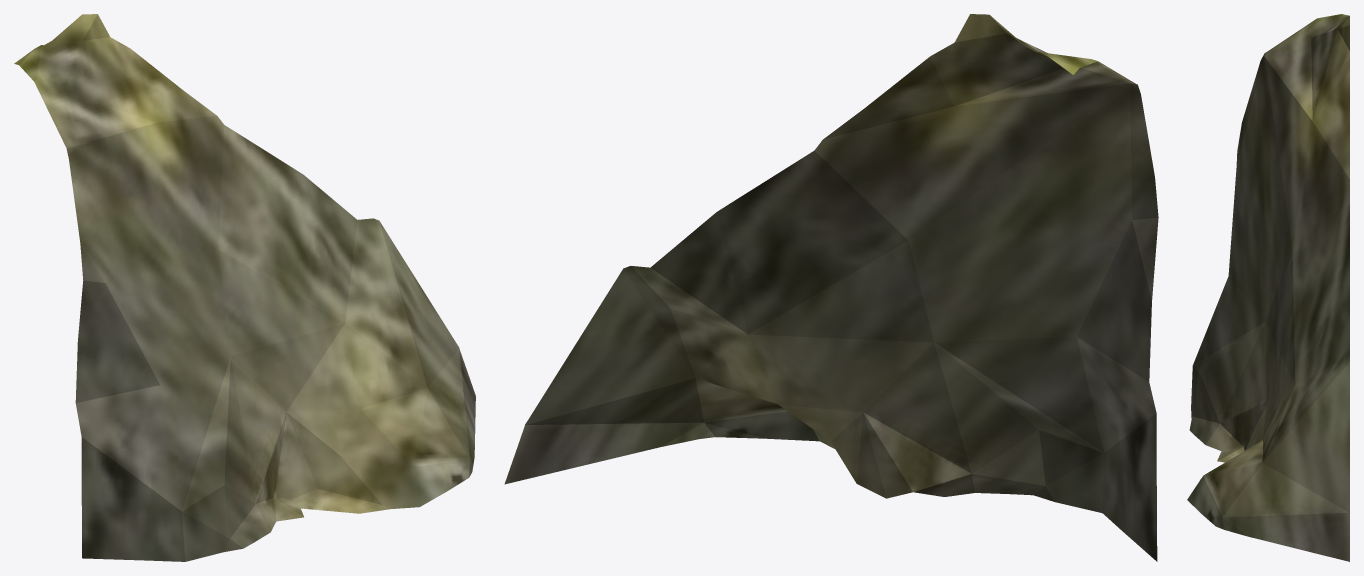
3 renders of one model, left to right at view 1: azimuth 30°, elevation 25°; view 2: azimuth 150°, elevation 25°; view 3: azimuth 270°, elevation 25°, orthographic. The views are drawn at different scales.
Size of the model in its own units: 1.48 by 1.46 by 0.5537.
1 material, 1 textured.
